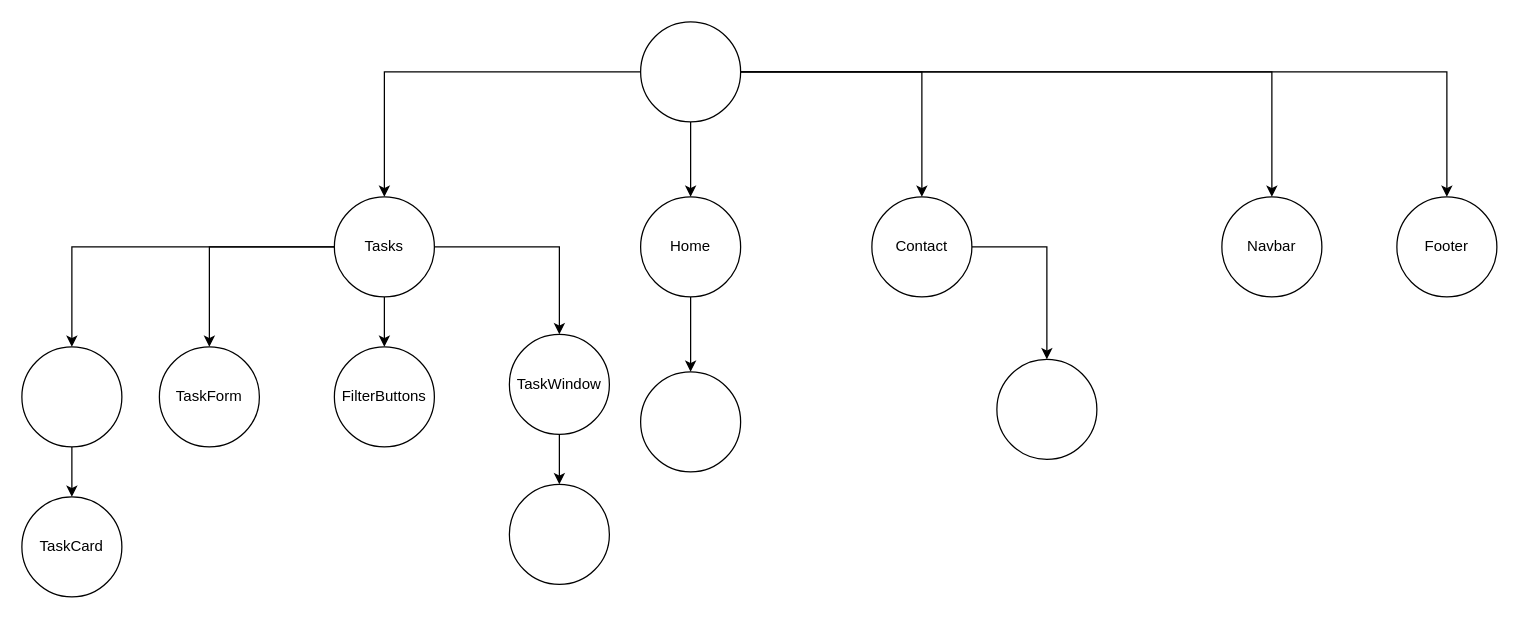
Some shapes in this 1519 by 619 pixel diagram are drawn without their labels. Each missing label, with the centre of its shape:
"App" goes at [690,71].
"ContactForm" goes at [1046,408].
"Dropdown" goes at [690,421].
"TaskContainer" goes at [71,396].
"TaskDetails" goes at [558,533].
